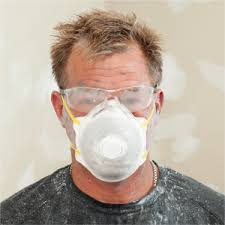mask: (54, 22, 157, 184)
